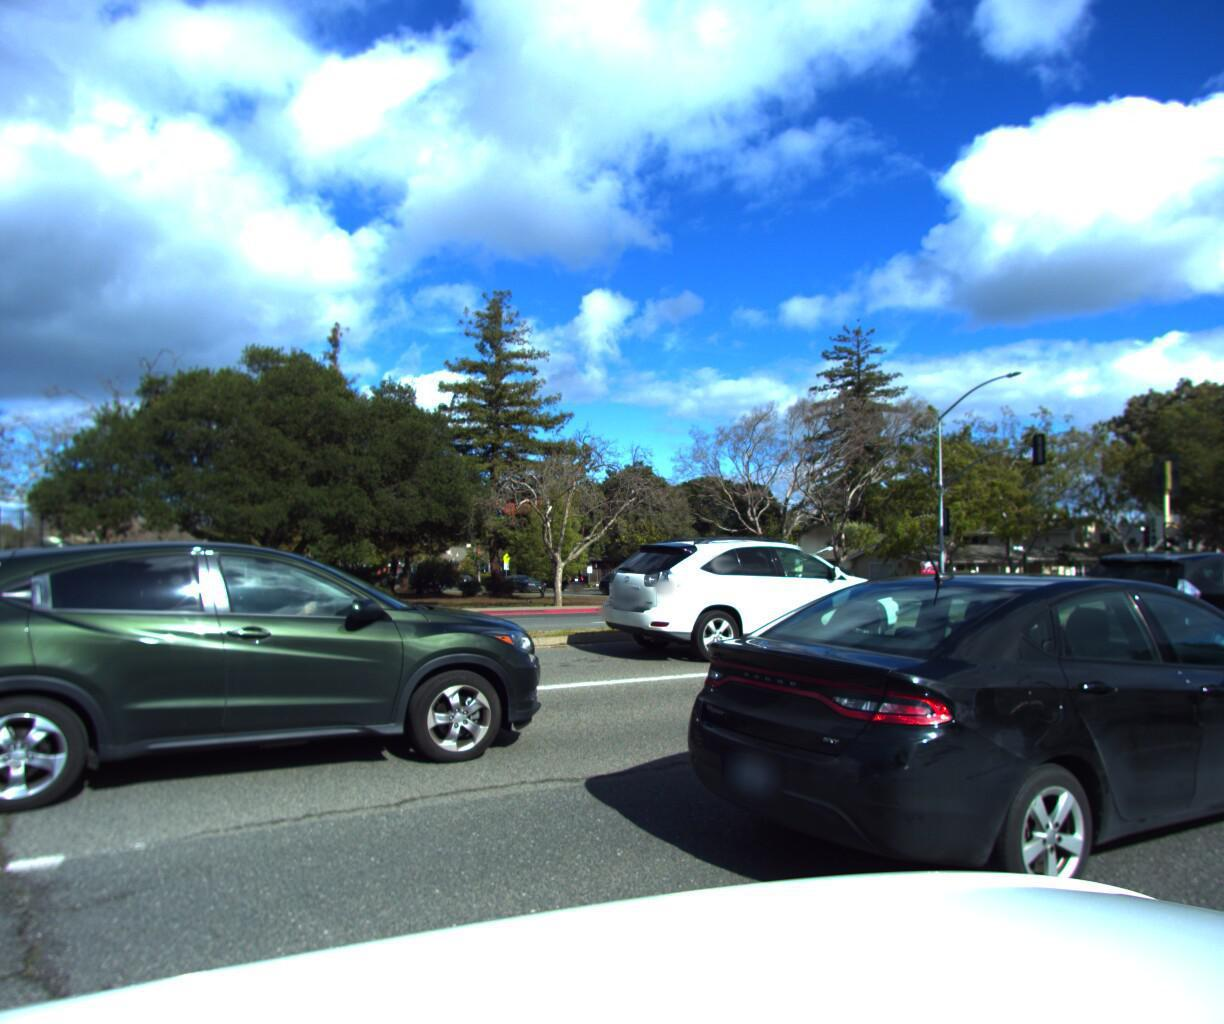car: (648, 513, 1224, 957), (0, 522, 611, 835), (586, 519, 905, 662), (1049, 546, 1224, 673), (0, 506, 32, 796), (905, 577, 995, 608)
